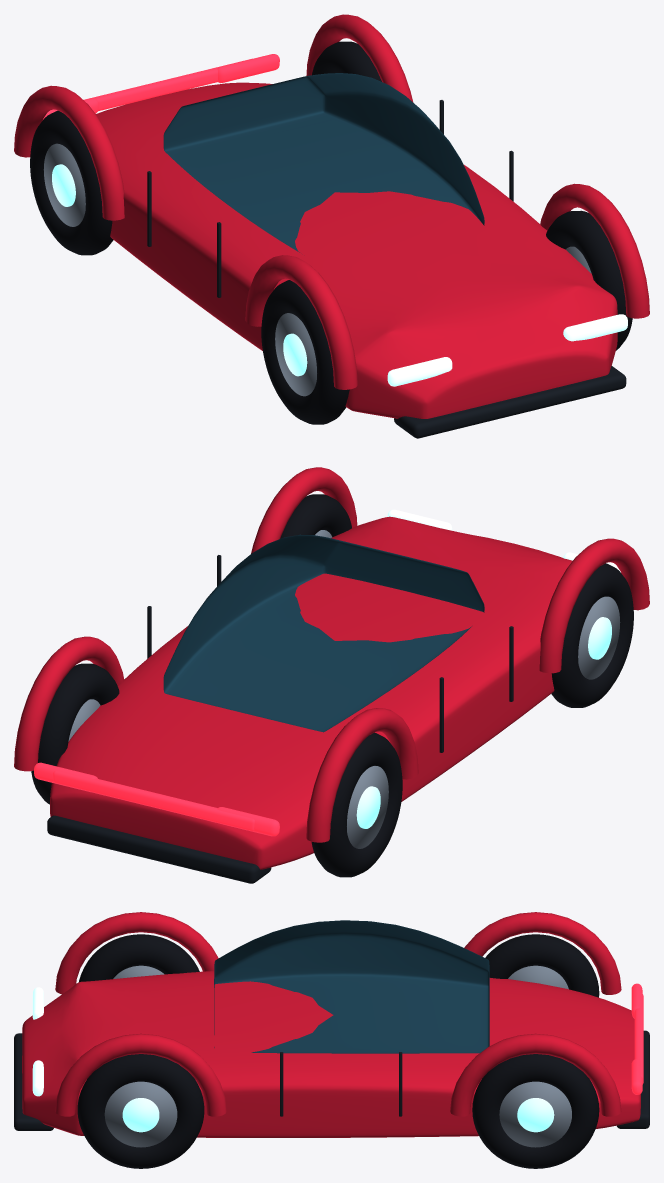
Rendered from rainline_apex_s_v3.glb.
The picture shows the model from 3 angles, top to bottom: view 1: azimuth 30°, elevation 25°; view 2: azimuth 150°, elevation 25°; view 3: azimuth 270°, elevation 25°; orthographic projection. The views are drawn at different scales.
Visible parts, largest first — view 1: Apex sculpted body, Apex glass canopy, Apex performance tire, Apex performance tire.001, Apex painted fender, Apex painted fender.001, Apex painted fender.002, Apex front splitter, Apex performance tire.002, Apex painted fender.003, Apex rear lamp bar, Apex alloy wheel (+7 smaller); view 2: Apex sculpted body, Apex glass canopy, Apex performance tire.001, Apex performance tire, Apex painted fender.001, Apex painted fender, Apex rear diffuser, Apex painted fender.003, Apex performance tire.003, Apex painted fender.002, Apex rear lamp bar, Apex performance tire.002 (+5 smaller); view 3: Apex sculpted body, Apex glass canopy, Apex performance tire.003, Apex performance tire.002, Apex painted fender.002, Apex painted fender.003, Apex painted fender, Apex painted fender.001, Apex performance tire.001, Apex performance tire, Apex alloy wheel.002, Apex alloy wheel.003 (+8 smaller).
Boxes of the visible parts, left/top/right/bottom form: Apex sculpted body: left=96, top=82, right=617, bottom=418; Apex glass canopy: left=163, top=73, right=484, bottom=252; Apex performance tire: left=261, top=280, right=349, bottom=424; Apex performance tire.001: left=30, top=110, right=113, bottom=255; Apex painted fender: left=245, top=255, right=357, bottom=389; Apex painted fender.001: left=14, top=85, right=124, bottom=220; Apex painted fender.002: left=540, top=183, right=649, bottom=318; Apex front splitter: left=394, top=366, right=626, bottom=438; Apex performance tire.002: left=546, top=210, right=632, bottom=350; Apex painted fender.003: left=306, top=14, right=413, bottom=102; Apex rear lamp bar: left=84, top=58, right=252, bottom=111; Apex alloy wheel: left=275, top=313, right=316, bottom=396; Apex sculpted body: left=50, top=516, right=572, bottom=869; Apex glass canopy: left=163, top=534, right=484, bottom=732; Apex performance tire.001: left=311, top=732, right=402, bottom=877; Apex performance tire: left=551, top=563, right=633, bottom=707; Apex painted fender.001: left=306, top=708, right=418, bottom=842; Apex painted fender: left=539, top=538, right=649, bottom=673; Apex rear diffuser: left=47, top=815, right=271, bottom=883; Apex painted fender.003: left=14, top=636, right=124, bottom=771; Apex performance tire.003: left=31, top=663, right=119, bottom=804; Apex painted fender.002: left=251, top=467, right=357, bottom=553; Apex rear lamp bar: left=53, top=770, right=254, bottom=831; Apex performance tire.002: left=280, top=494, right=351, bottom=538; Apex sculpted body: left=22, top=971, right=640, bottom=1137; Apex glass canopy: left=214, top=920, right=489, bottom=1053; Apex performance tire.003: left=472, top=1054, right=599, bottom=1168; Apex performance tire.002: left=77, top=1054, right=204, bottom=1168; Apex painted fender.002: left=55, top=1033, right=226, bottom=1116; Apex painted fender.003: left=450, top=1033, right=621, bottom=1116; Apex painted fender: left=55, top=912, right=218, bottom=994; Apex painted fender.001: left=464, top=912, right=621, bottom=994; Apex performance tire.001: left=485, top=934, right=599, bottom=997; Apex performance tire: left=79, top=934, right=199, bottom=982; Apex alloy wheel.002: left=104, top=1081, right=177, bottom=1147; Apex alloy wheel.003: left=499, top=1081, right=571, bottom=1147.
Bounding box in the file's own units: 2.28 × 1.29 × 4.71.
